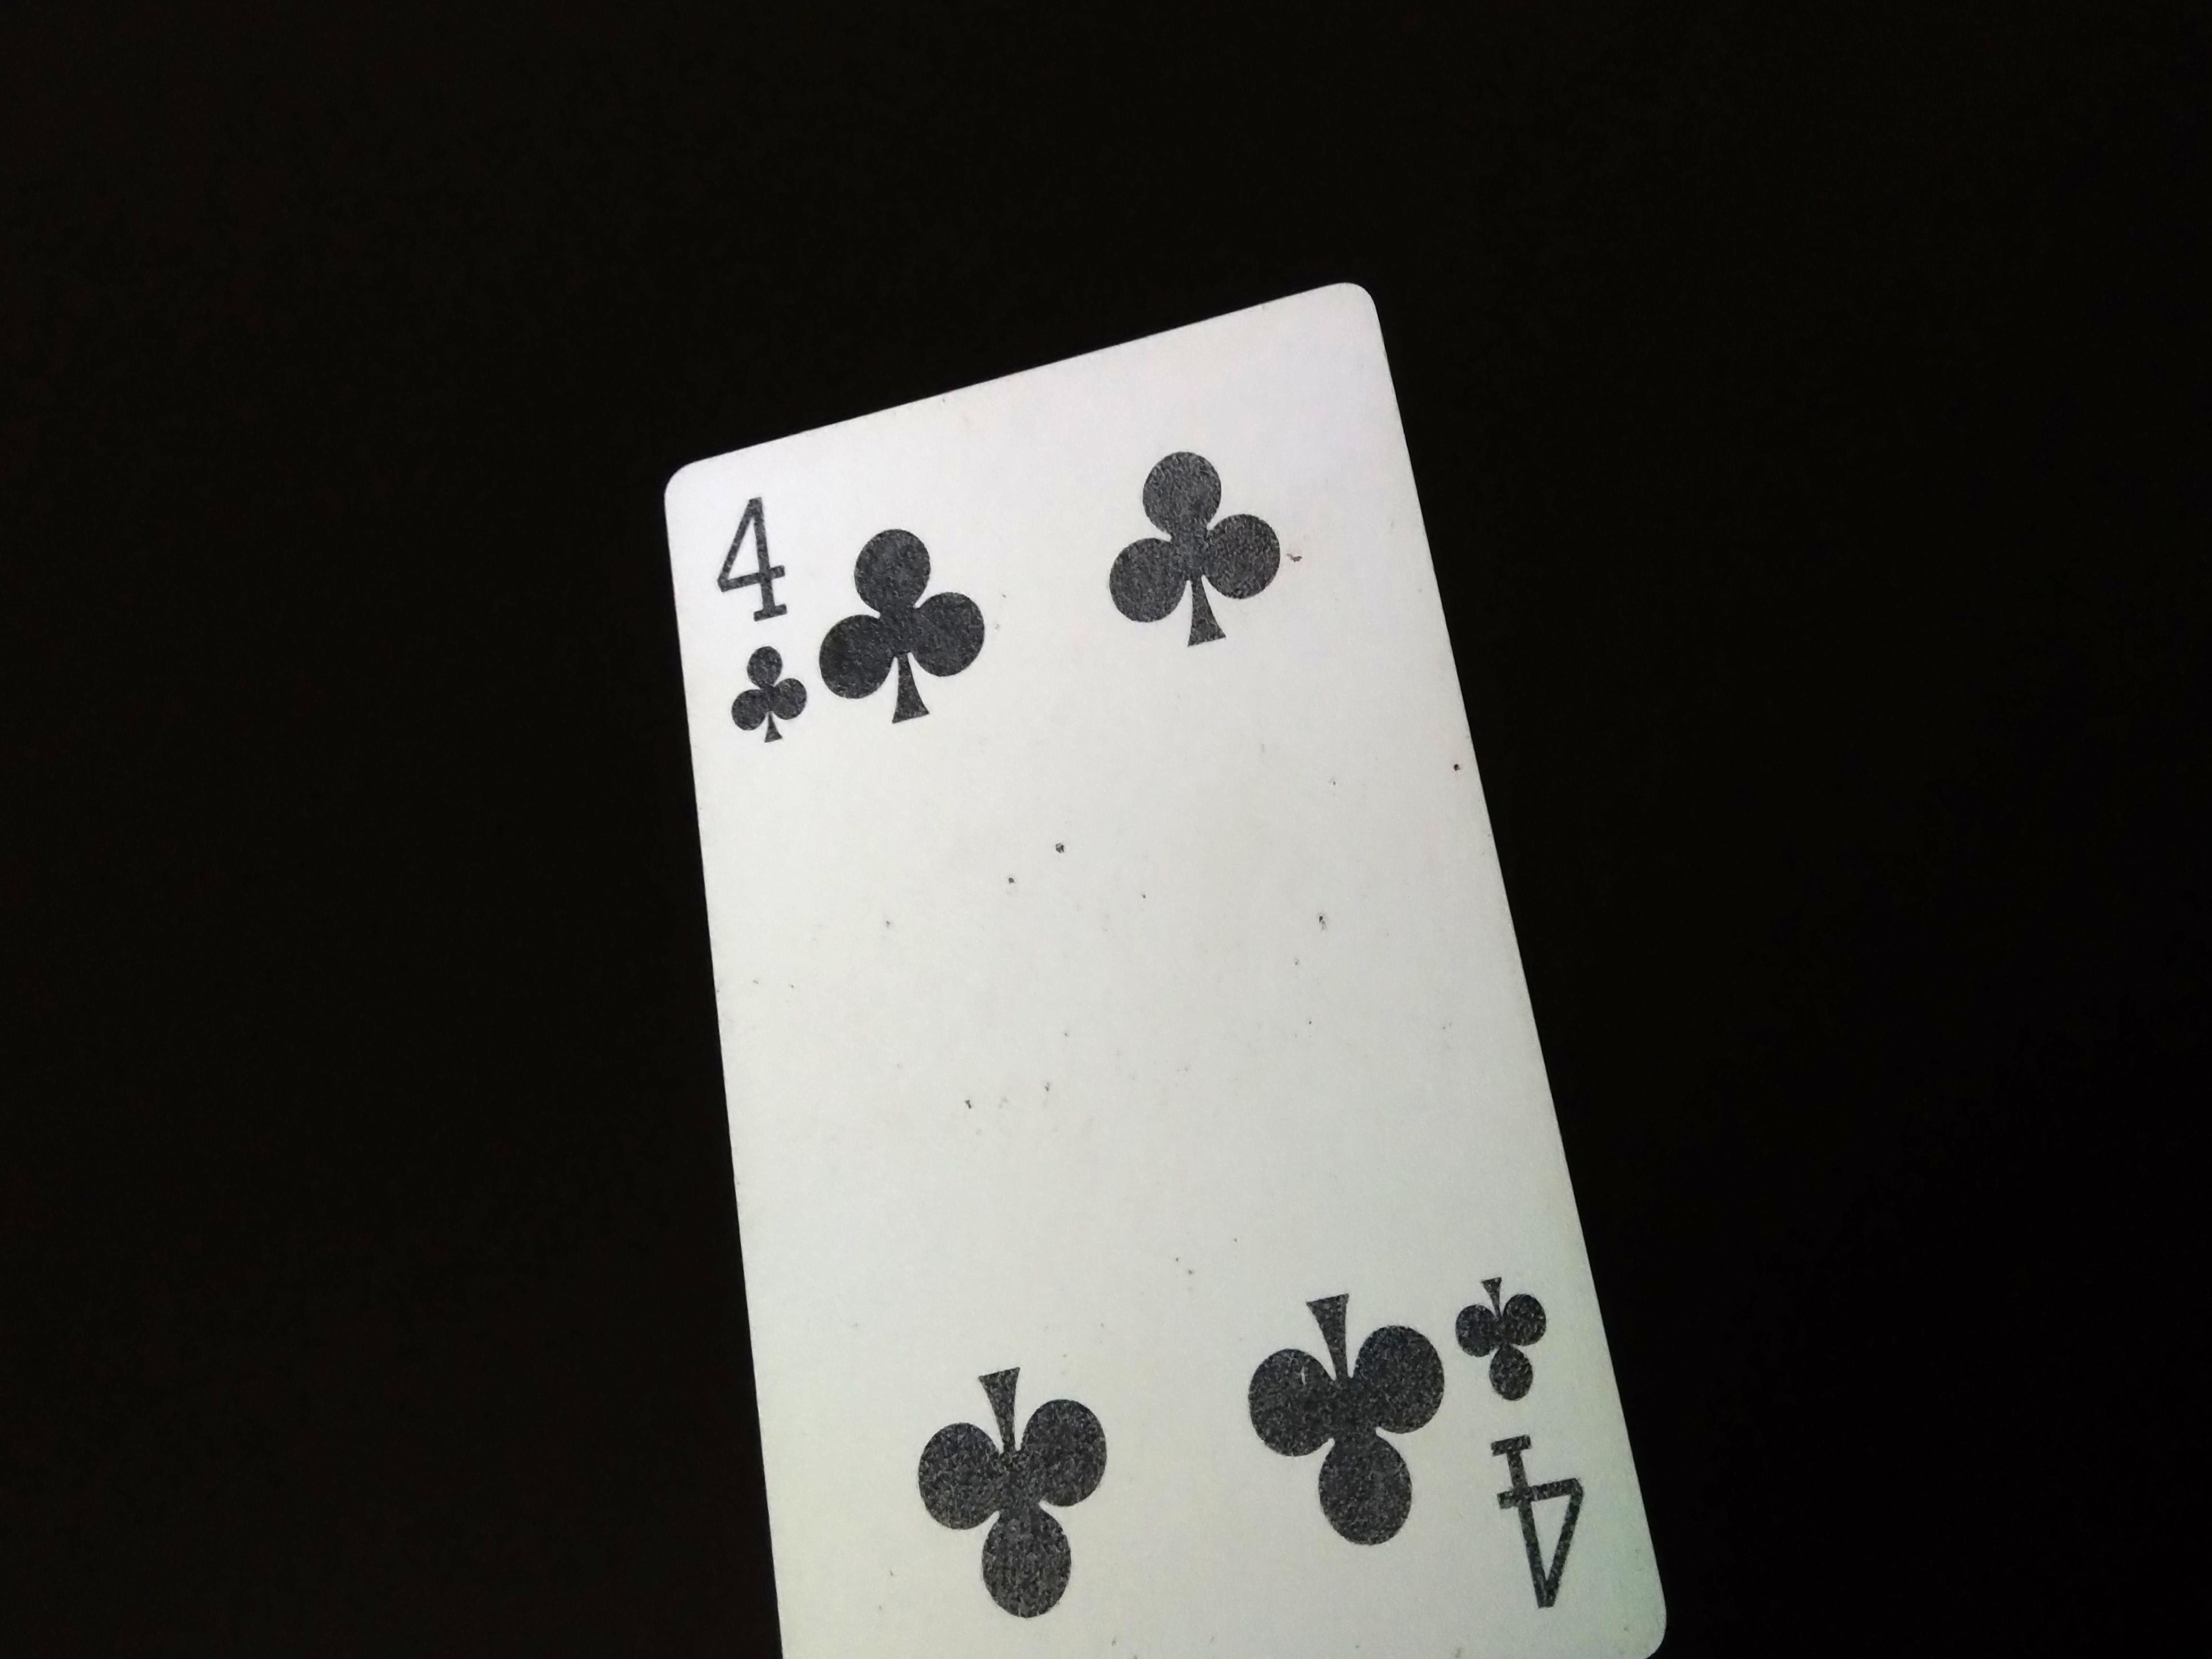4C: (723, 491, 815, 753)
